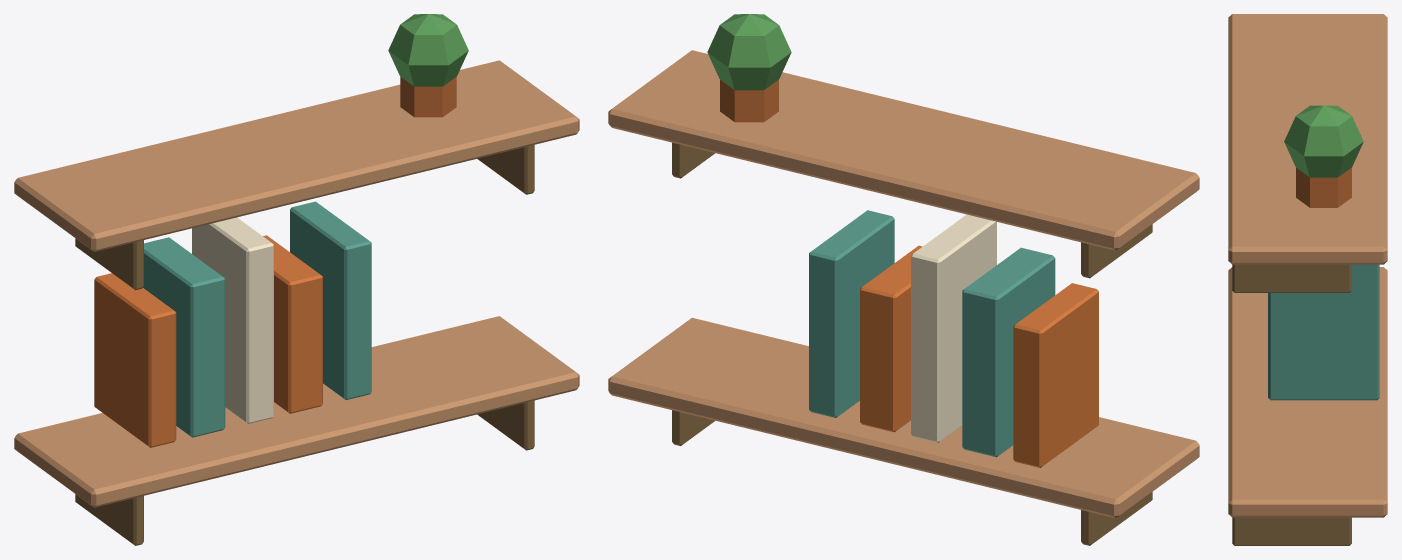
File: bookshelf.glb
3 renders of one model, left to right at view 1: azimuth 30°, elevation 25°; view 2: azimuth 150°, elevation 25°; view 3: azimuth 270°, elevation 25°, orthographic. The views are drawn at different scales.
Parts seen in each view (by area): view 1: Bookshelf; view 2: Bookshelf; view 3: Bookshelf.
Boxes of the visible parts, x1,y1,x2,y2 form: Bookshelf: (14, 14, 579, 545); Bookshelf: (608, 14, 1199, 545); Bookshelf: (1228, 14, 1387, 545).
Bounding box in the file's own units: 0.7 × 0.57 × 0.2.
